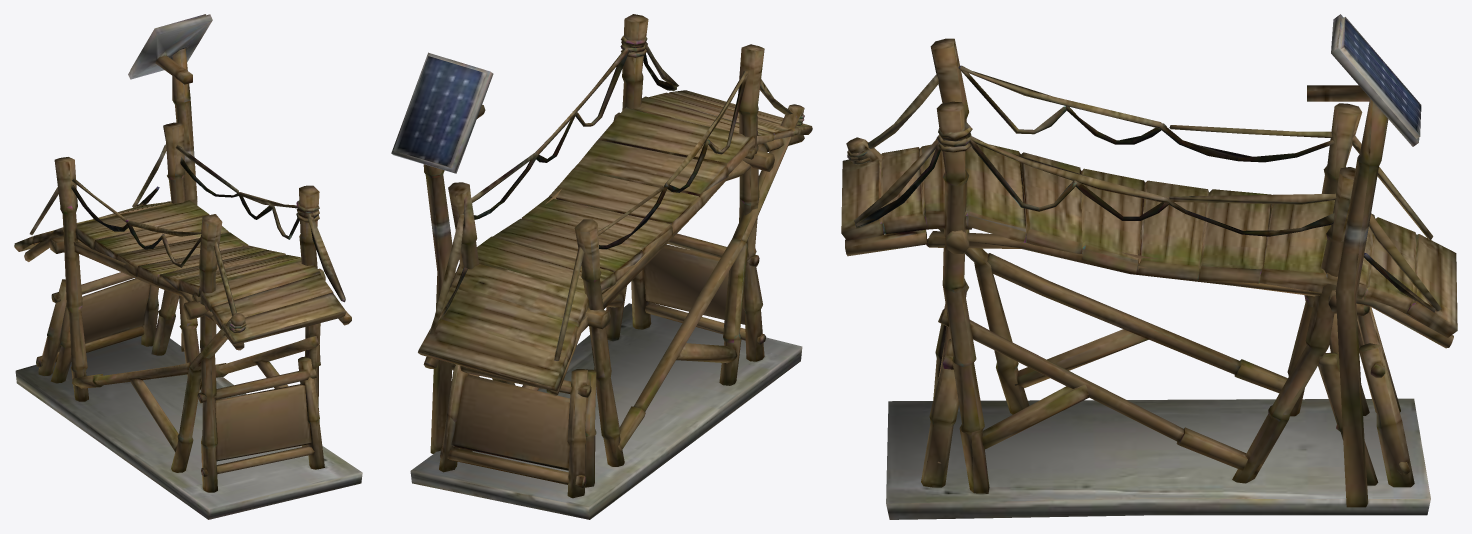
Rendered from bamboo_footbridge.glb.
3 renders of one model, left to right at view 1: azimuth 30°, elevation 25°; view 2: azimuth 150°, elevation 25°; view 3: azimuth 270°, elevation 25°, orthographic. The views are drawn at different scales.
Visible parts, largest first — view 1: Body; view 2: Body; view 3: Body.
Boxes of the visible parts, x1,y1,x2,y2 form: Body: (14, 14, 362, 519); Body: (391, 14, 812, 519); Body: (841, 14, 1457, 519).
Size of the model in its own units: 2.5 by 4.88 by 5.68.
Materials: 1 (1 with a texture image).
